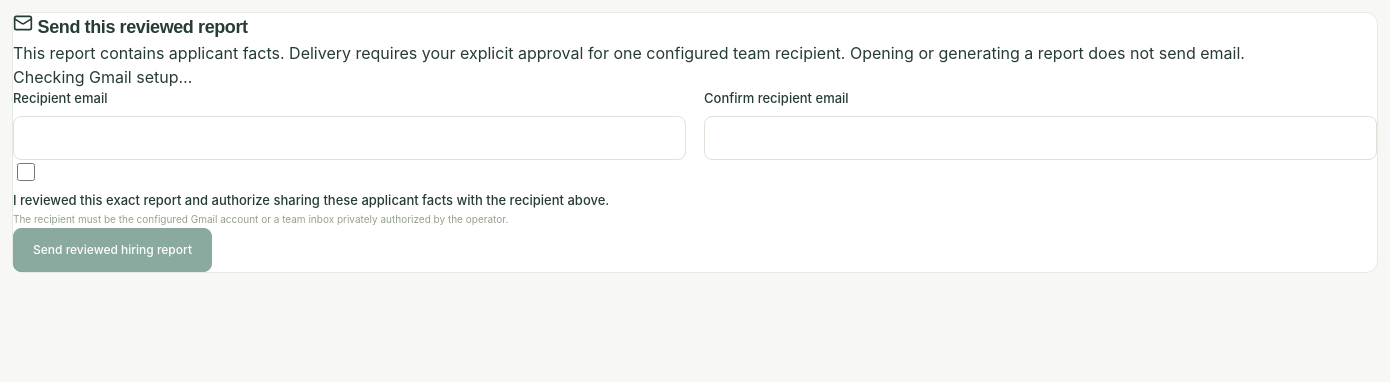
Test case: private hiring dashboard › shows uncertain outcomes without offering a blind resend
Type "reviewer@example.com" into the field labelled "Recipient email" at [350, 138], box [13,116,686,160]
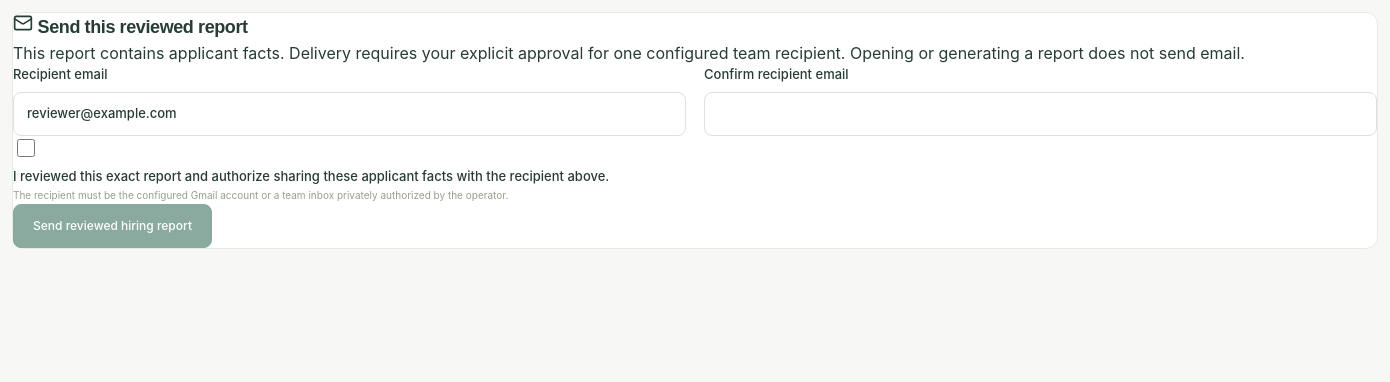
Type "reviewer@example.com" into the field labelled "Confirm recipient email" at [1040, 114], box [704,92,1377,136]
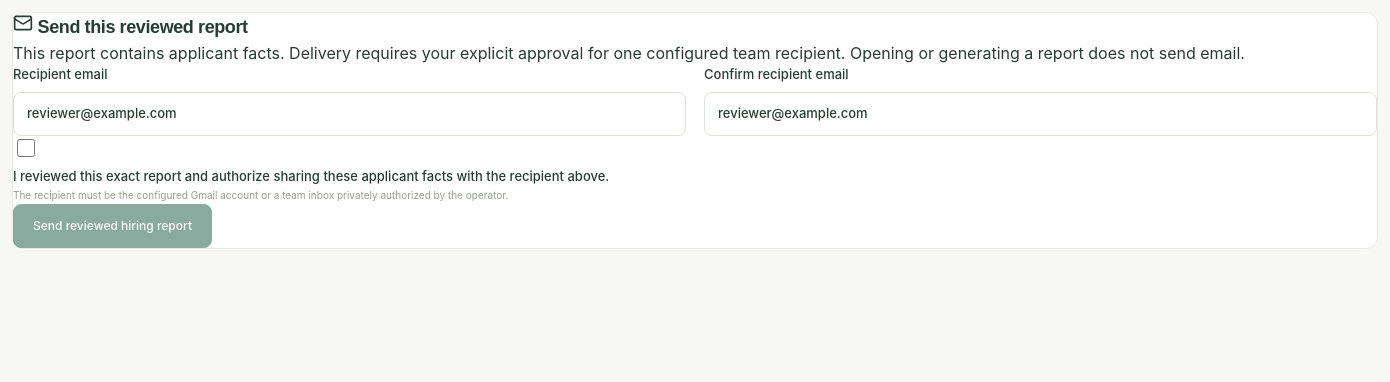
Click the checkbox at [26, 148], box [17,138,35,156]
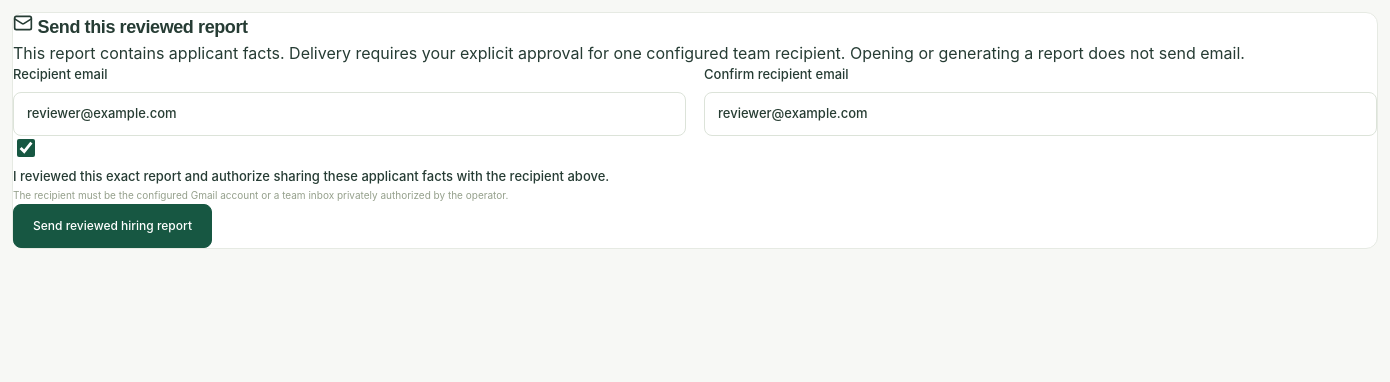
Expected: the button "Send reviewed hiring report" is enabled
Click the button "Send reviewed hiring report" at [112, 226], box [13,204,212,248]
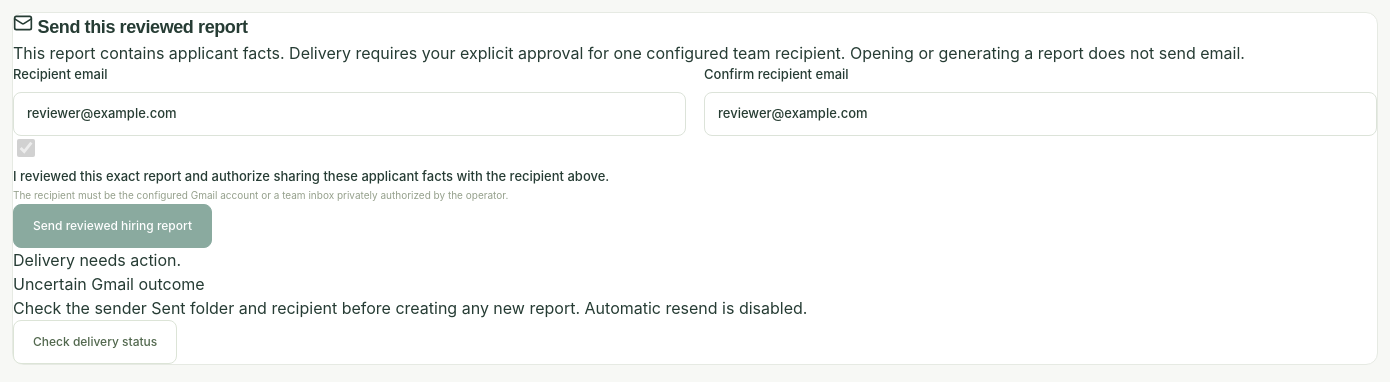
Expected: the text "Automatic resend is disabled" is shown, [13,298,807,318]
Expected: the button "Send reviewed hiring report" is disabled, [13,204,212,248]
